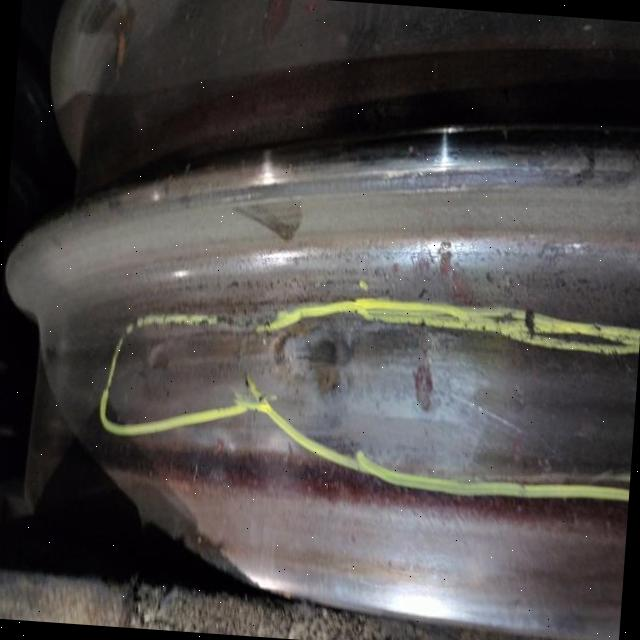Peeling: (148, 313, 492, 419)
